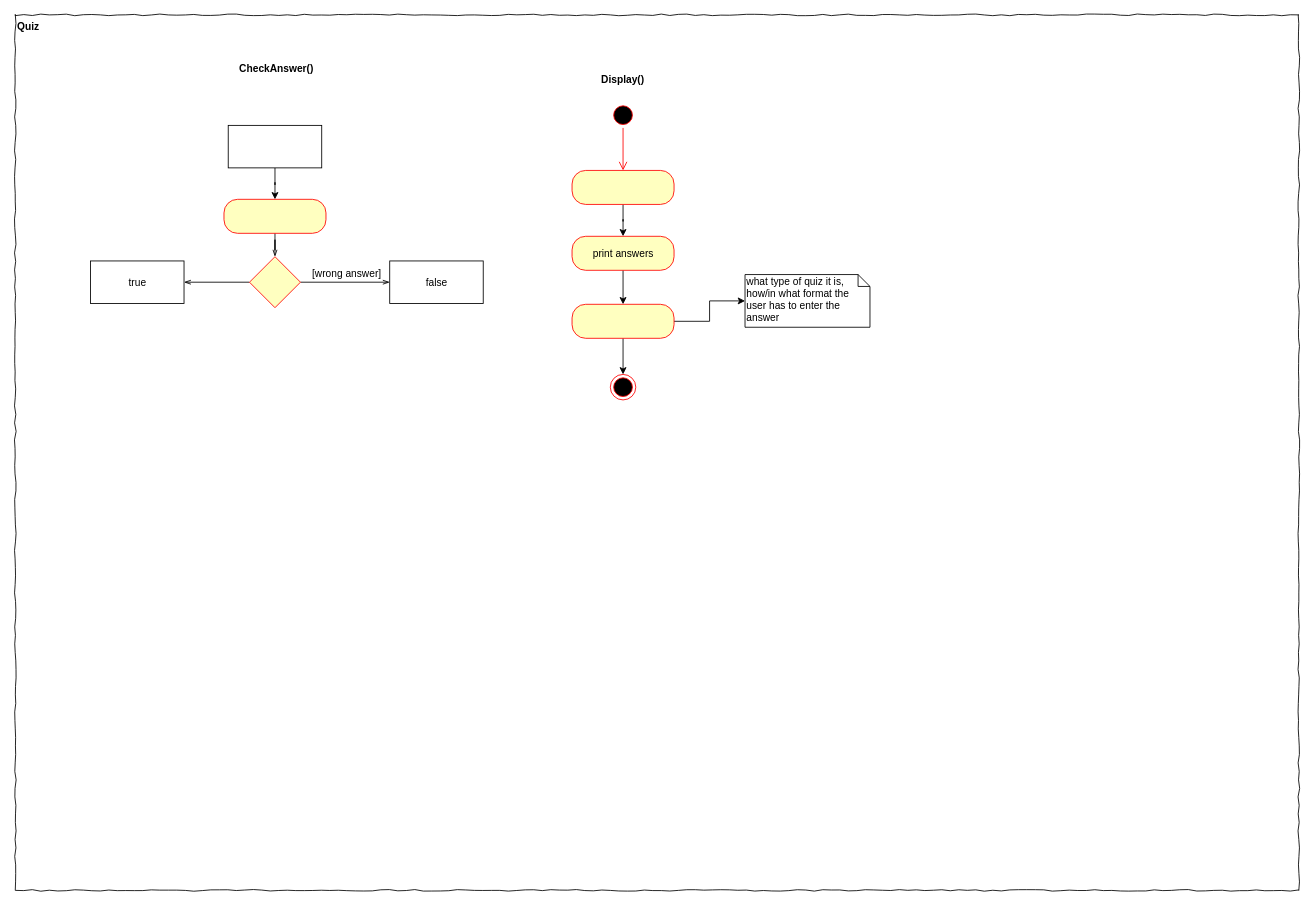
Image size: 1313x905. Some labels were removed from this diagram. Each missing label, with the centre of its shape:
compare userInput to the correct answer: the point at 274,215
print instructions: the point at 622,320
print question: the point at 622,187
userInput: string: the point at 274,146
